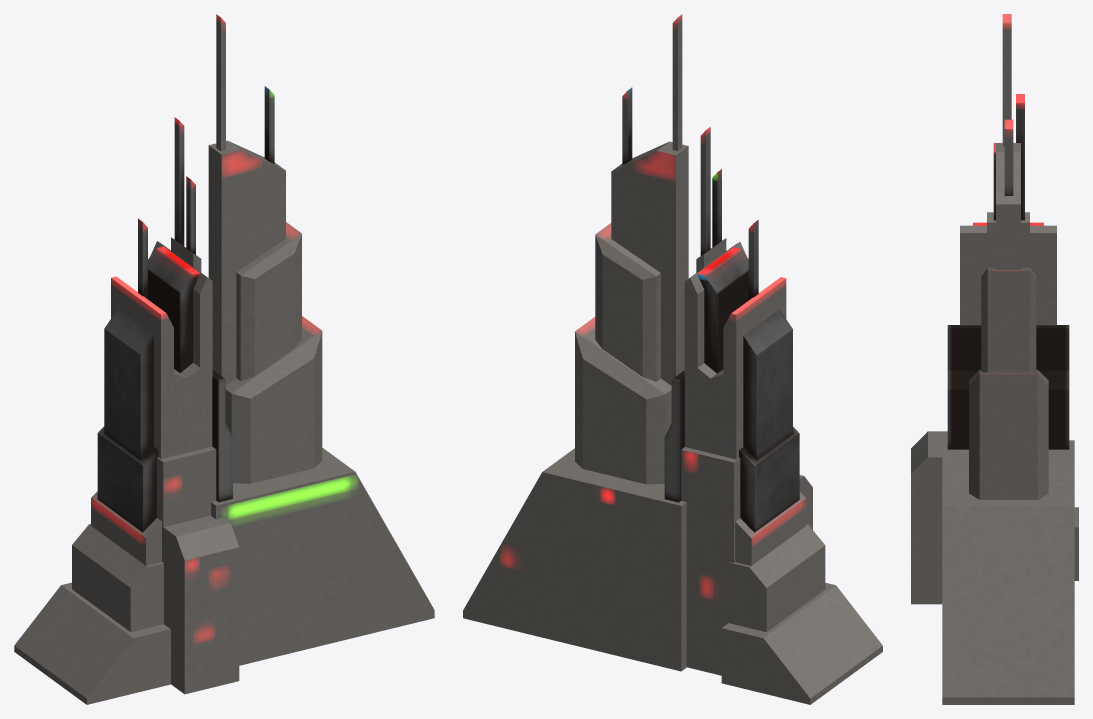
Rendered from SM_BackgroundBuilding_013.fbx.
3 views of the same model, side by side, from view 1: azimuth 30°, elevation 25°; view 2: azimuth 150°, elevation 25°; view 3: azimuth 270°, elevation 25° (orthographic). The views are drawn at different scales.
Visible parts, largest first — view 1: SM_BackgroundBuilding_013; view 2: SM_BackgroundBuilding_013; view 3: SM_BackgroundBuilding_013.
Part boxes in pixels (bbox=[...]): SM_BackgroundBuilding_013: bbox=[14, 14, 434, 704]; SM_BackgroundBuilding_013: bbox=[463, 14, 882, 704]; SM_BackgroundBuilding_013: bbox=[911, 14, 1078, 704].
Size of the model in its own units: 2208 by 945 by 3754.
Materials: 1 (1 with a texture image).
